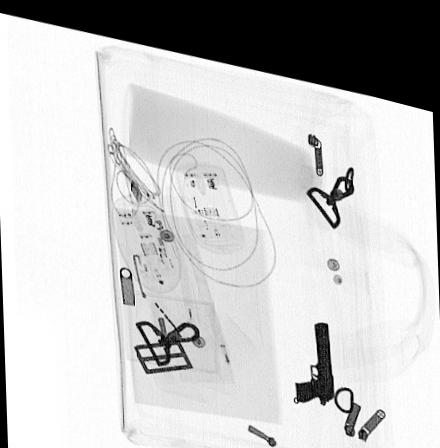Gun: (294, 305, 335, 388)
